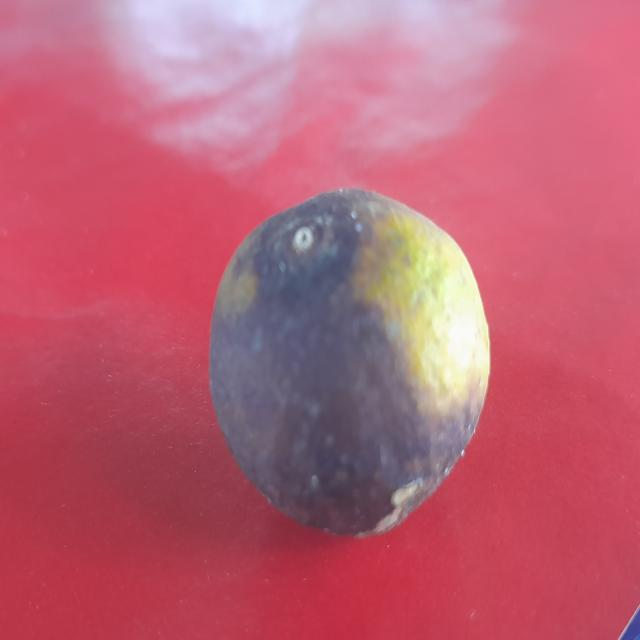black spot: (189, 139, 501, 555)
